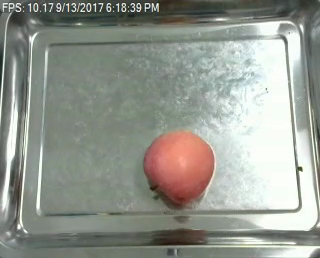Apple: (139, 129, 219, 205)
